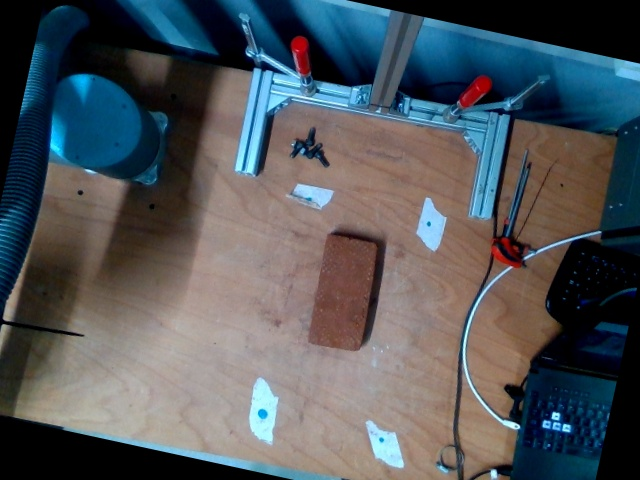brick: (306, 235, 377, 349)
